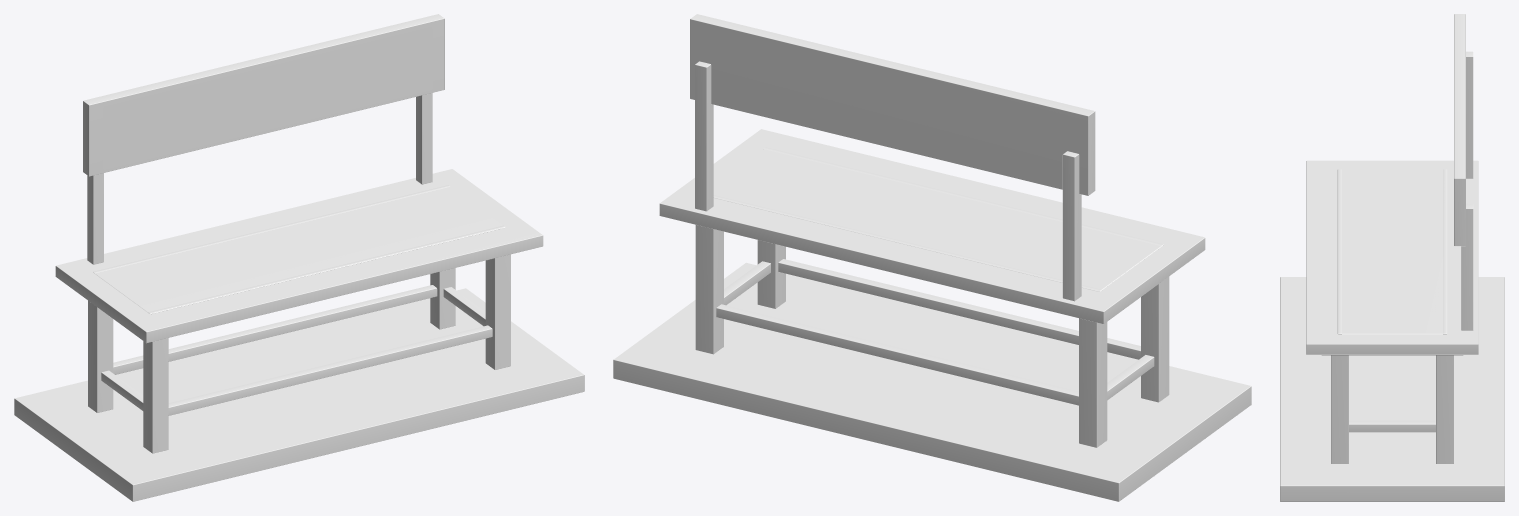
File: weapon_table.glb
3 views of the same model, side by side, from view 1: azimuth 30°, elevation 25°; view 2: azimuth 150°, elevation 25°; view 3: azimuth 270°, elevation 25° (orthographic). The views are drawn at different scales.
Visible parts, largest first — view 1: WeaponTable; view 2: WeaponTable; view 3: WeaponTable.
Boxes of the visible parts, x1,y1,x2,y2 form: WeaponTable: [14, 14, 584, 501]; WeaponTable: [613, 14, 1251, 501]; WeaponTable: [1280, 14, 1504, 501].
Size of the model in its own units: 3.3 by 2.22 by 1.5.
1 material, 1 textured.
